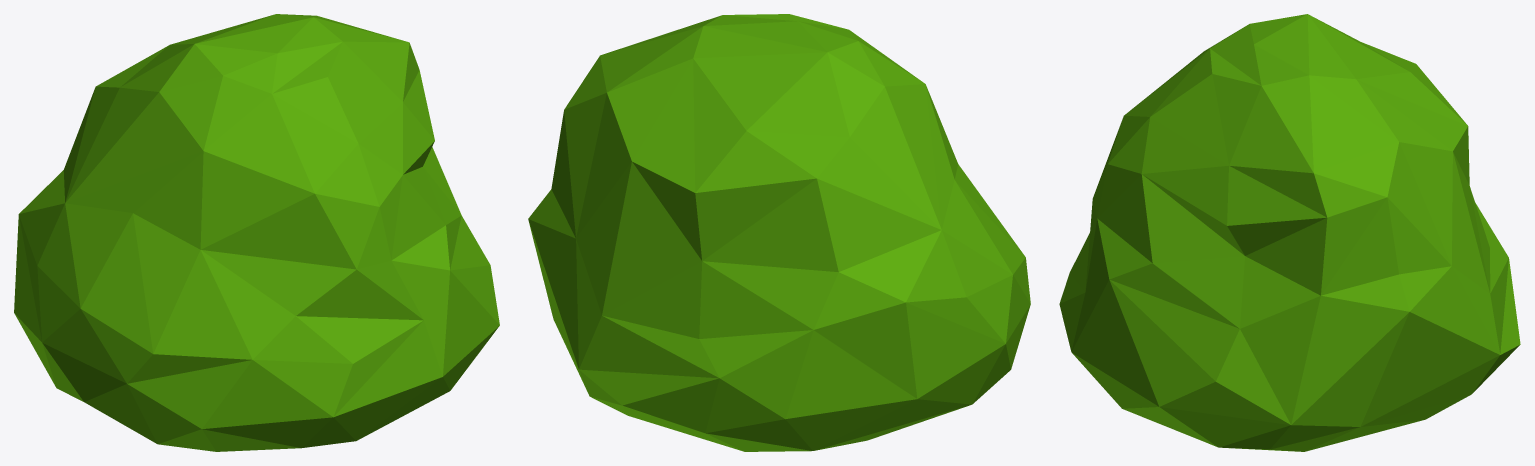
File: ShrubGroundB.fbx
3 views of the same model, side by side, from view 1: azimuth 30°, elevation 25°; view 2: azimuth 150°, elevation 25°; view 3: azimuth 270°, elevation 25° (orthographic). The views are drawn at different scales.
Visible parts, largest first — view 1: ShrubGroundB_geo; view 2: ShrubGroundB_geo; view 3: ShrubGroundB_geo.
Boxes of the visible parts, box(x1,y1,x2,y2) form: ShrubGroundB_geo: box(14, 14, 499, 451); ShrubGroundB_geo: box(528, 14, 1030, 451); ShrubGroundB_geo: box(1059, 14, 1520, 451).
Bounding box in the file's own units: 322 × 261 × 300.
